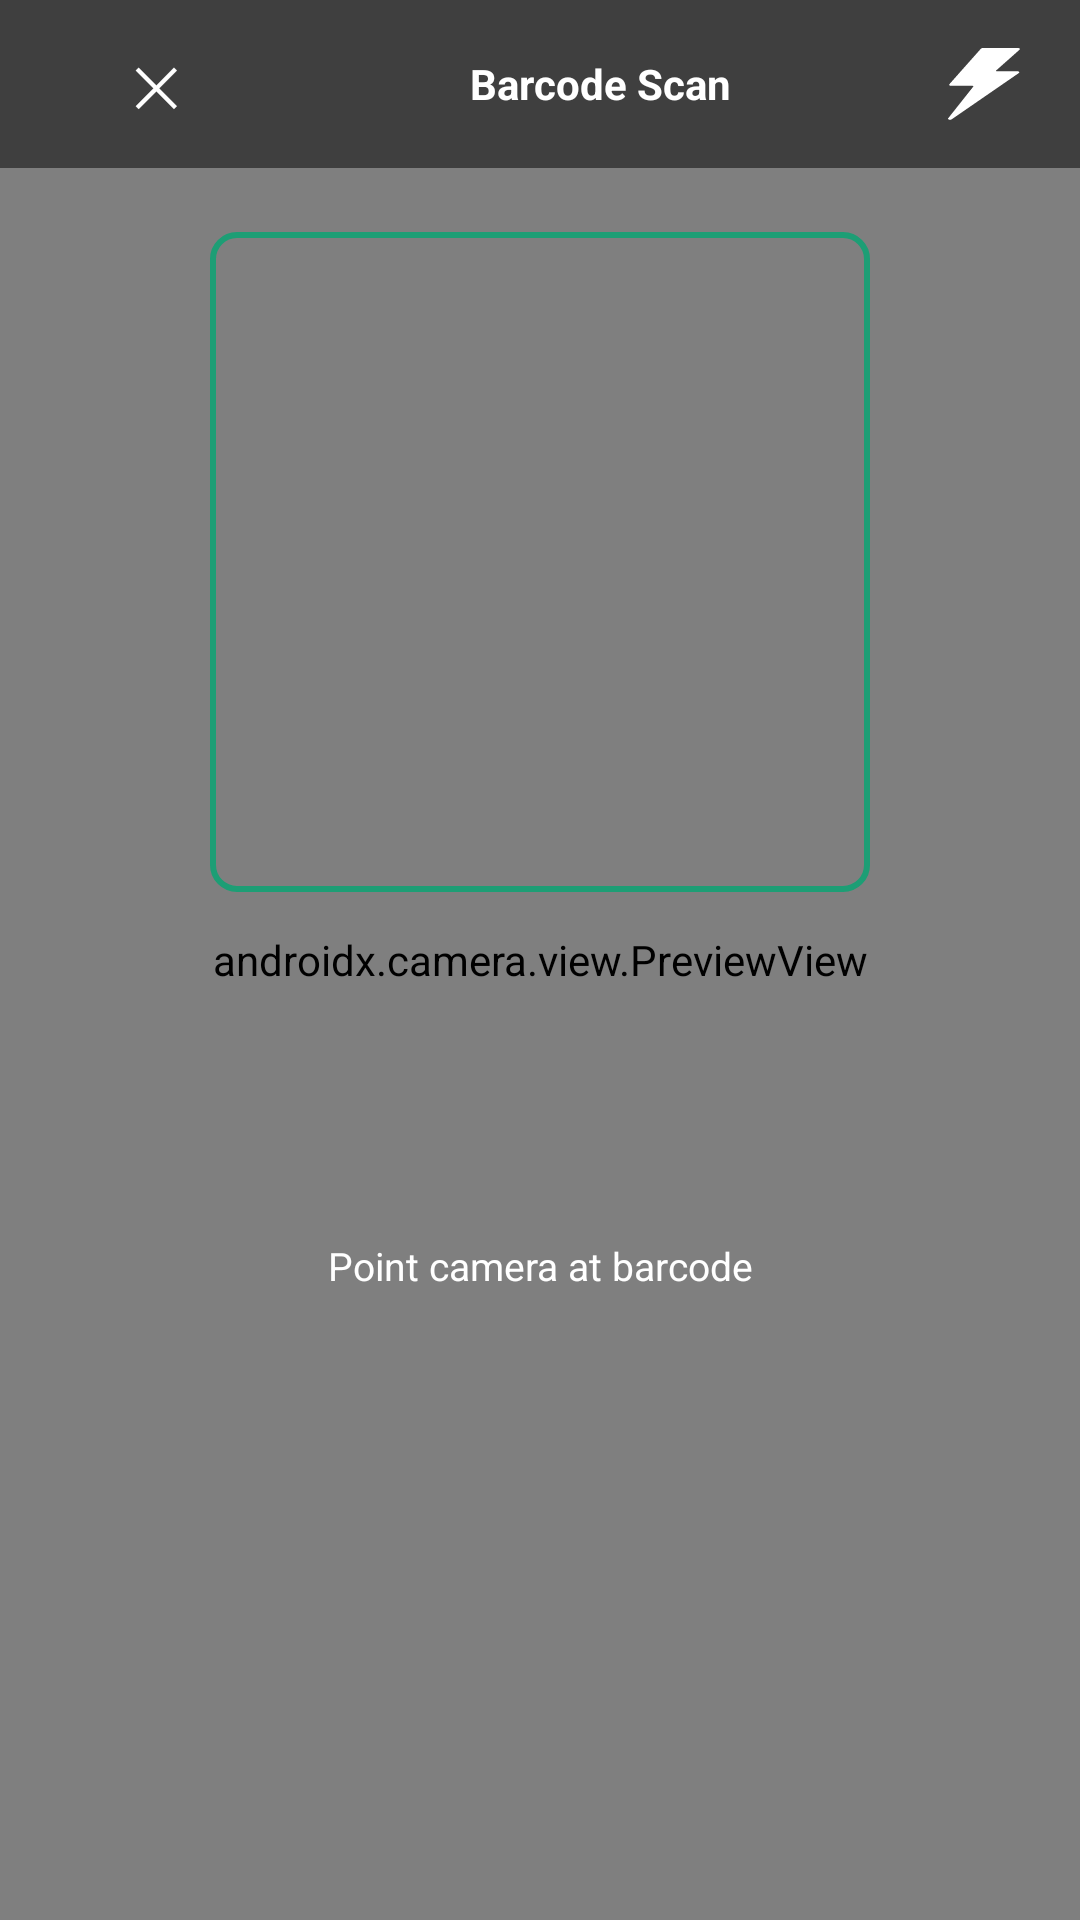

Icon bounding boxes for this 1080 × 1920 phone screenshot, format (x1=x1, y1=y1, x2=x2, y2=y2):
Toggle Flash: (x1=948, y1=48, x2=1020, y2=120)
